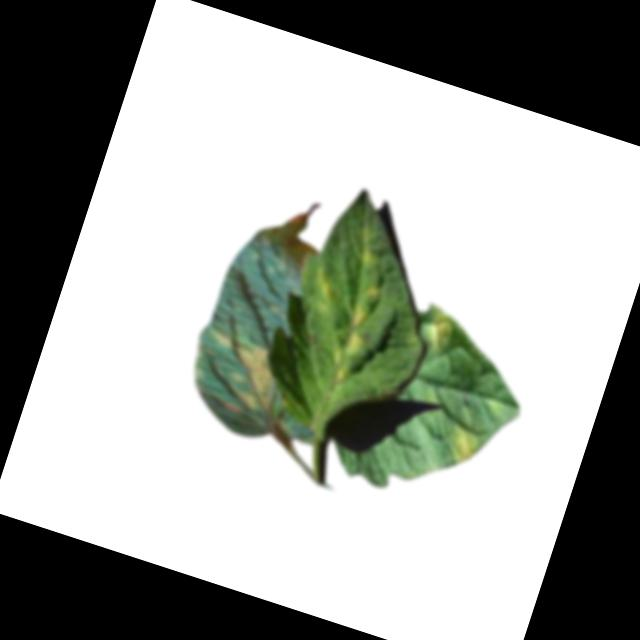Leaf_Mold: (317, 226, 400, 387), (187, 323, 290, 424), (442, 415, 490, 469), (303, 262, 346, 315), (418, 304, 461, 353)
